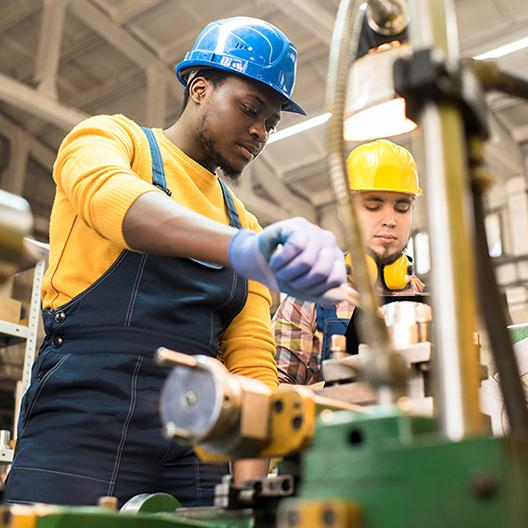helmet: (179, 16, 304, 118), (347, 139, 419, 192)
